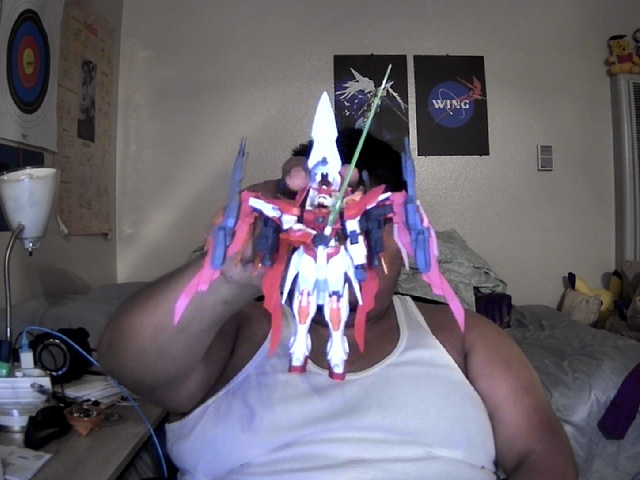Honoo: (174, 90, 466, 383)
